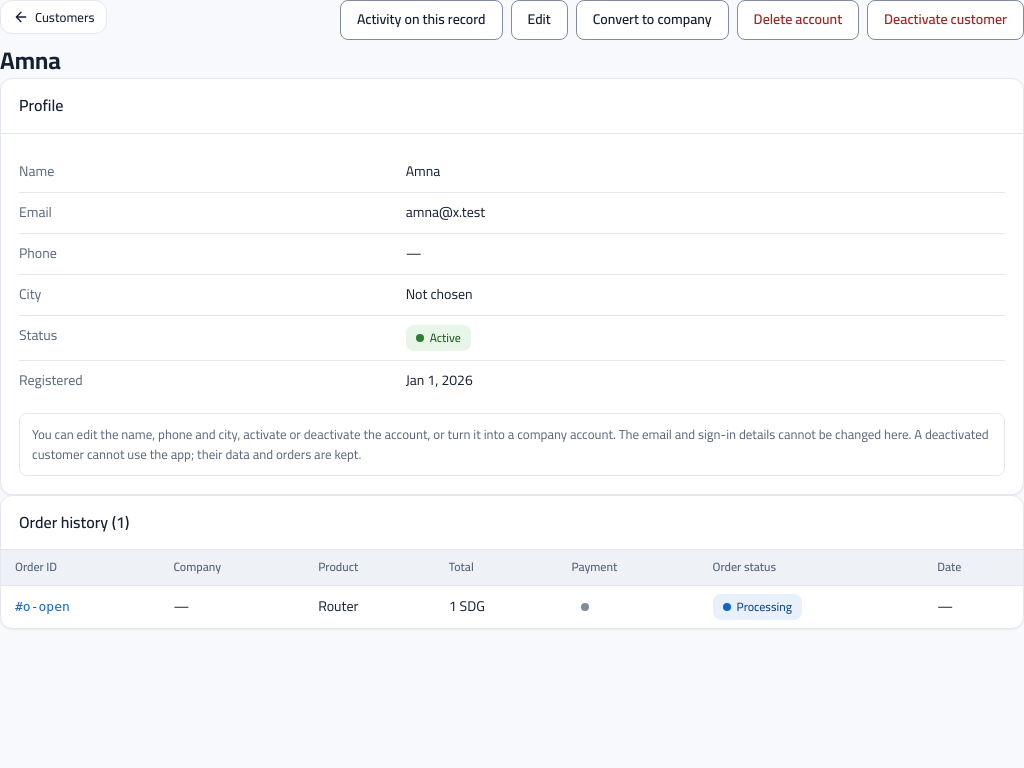
the customer page: converting to a company › offers deleting the account too, with the same work in progress handed over
The width and height of the screenshot is (1024, 768).
Step 1. Click the button "Delete account" → (798, 20), box [737,0,859,40]
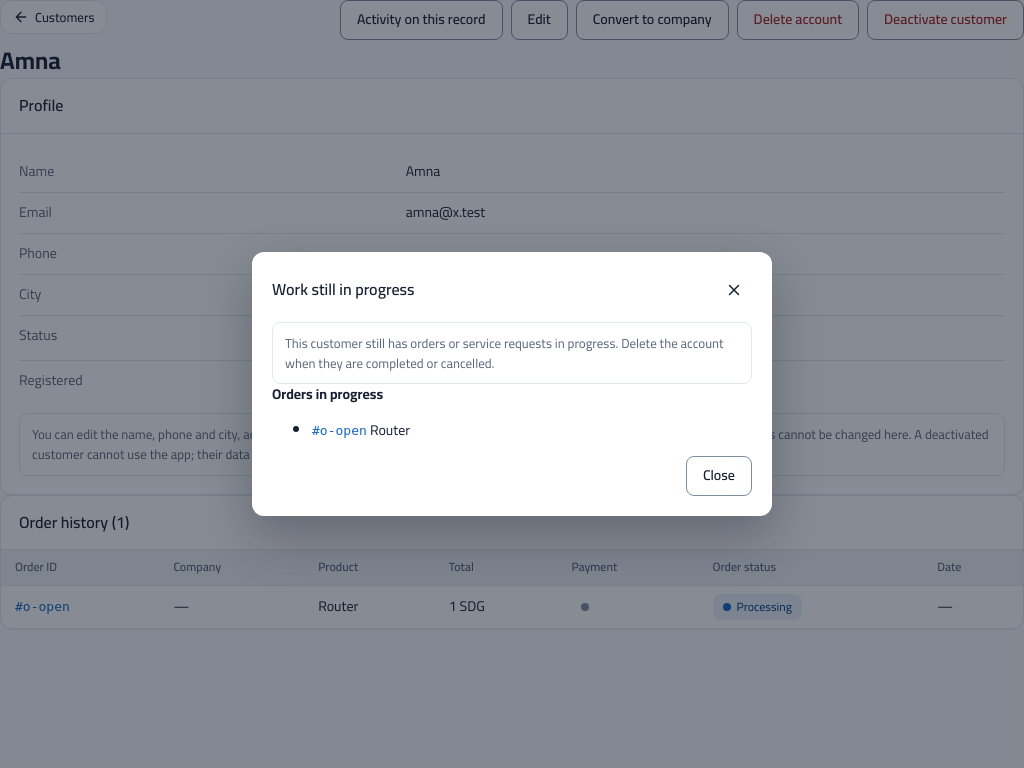
Result: the text "This customer still has orders or service requests in progress. Delete the account when they are completed or cancelled." is shown at [285,331,724,375]
